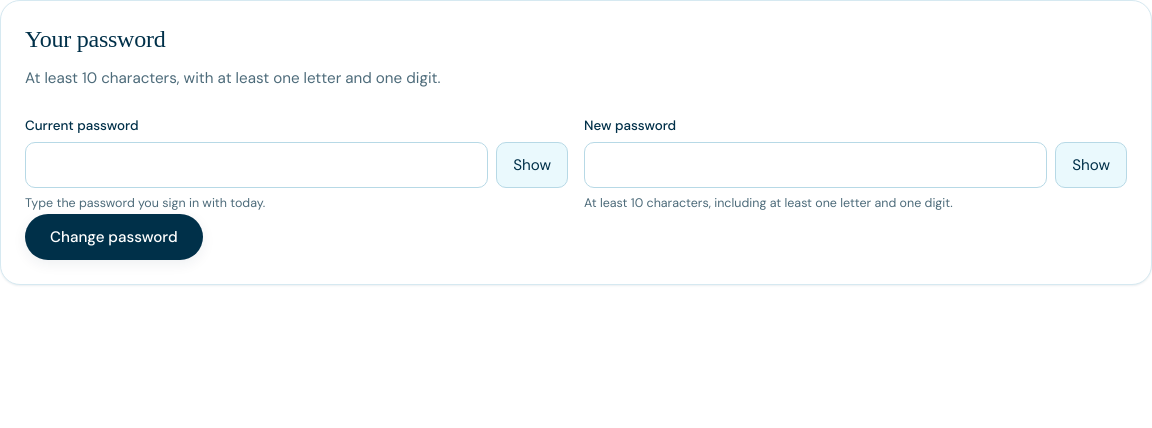
changing a password › carries the service's refusal of a wrong current password onto the field
Type "not-it" into the password field labelled "Current password".
click(257, 165); type("not-it")  # box [25, 142, 488, 188]
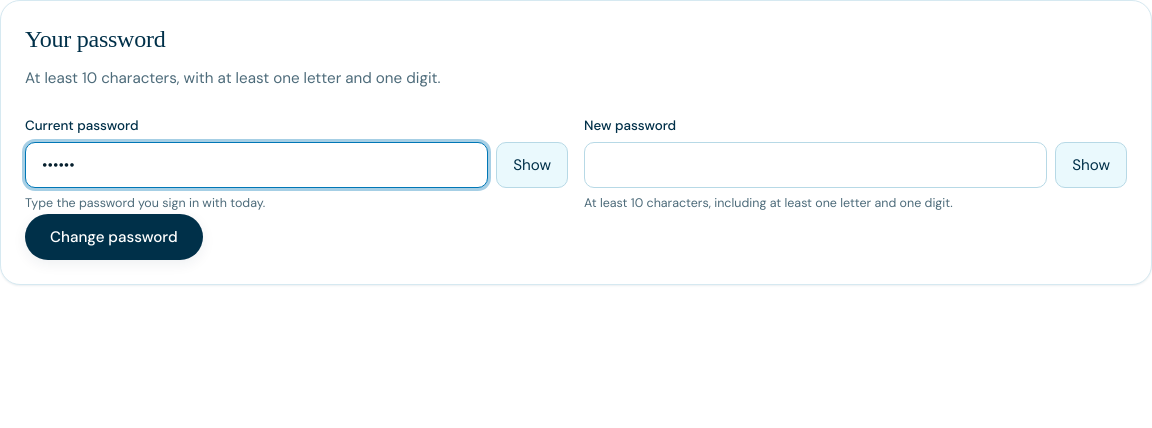
Type "Harbour-2026" into the password field labelled "New password".
click(816, 165); type("Harbour-2026")  # box [584, 142, 1047, 188]
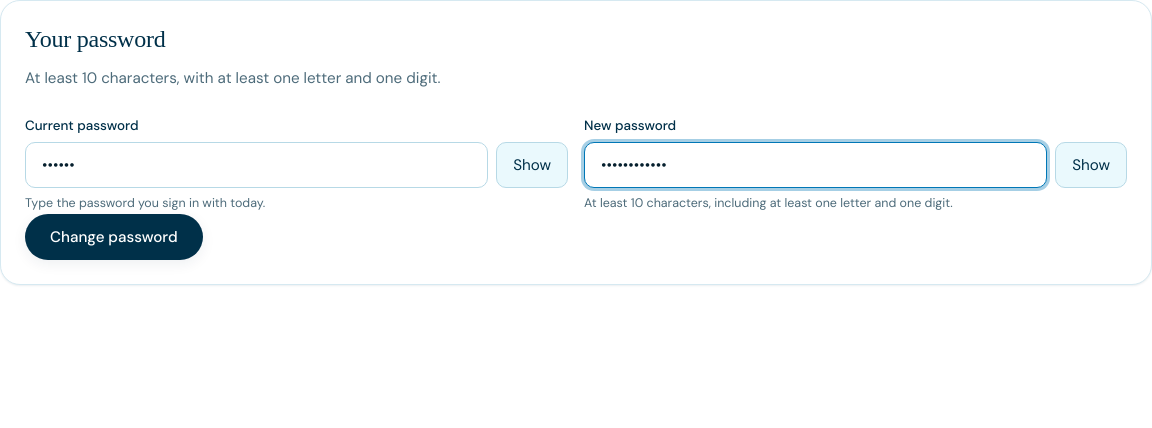
Click the button "Change password".
click(114, 237)  # box [25, 214, 203, 260]
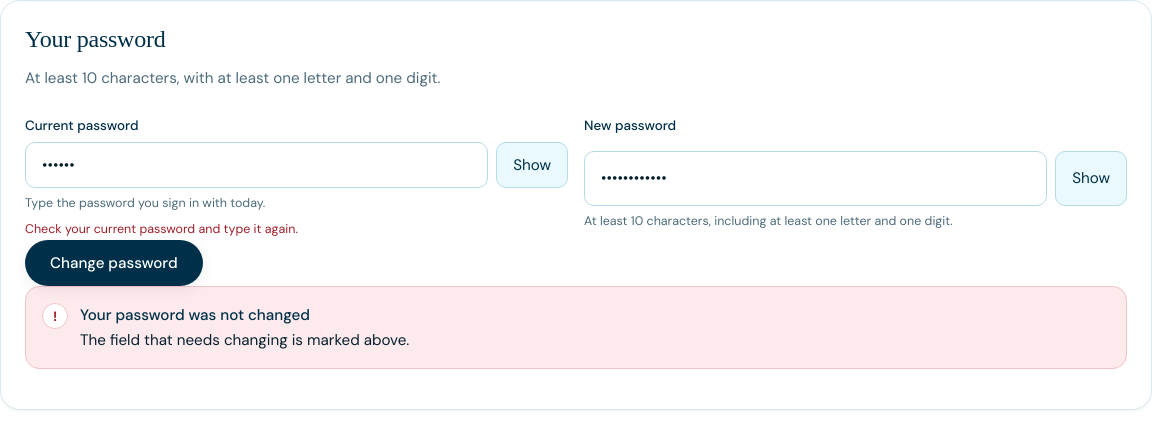
Expected: the text "Check your current password and type it again." is shown, [25, 221, 298, 237]
Expected: the text "Your password was not changed" is shown, [80, 305, 310, 325]
